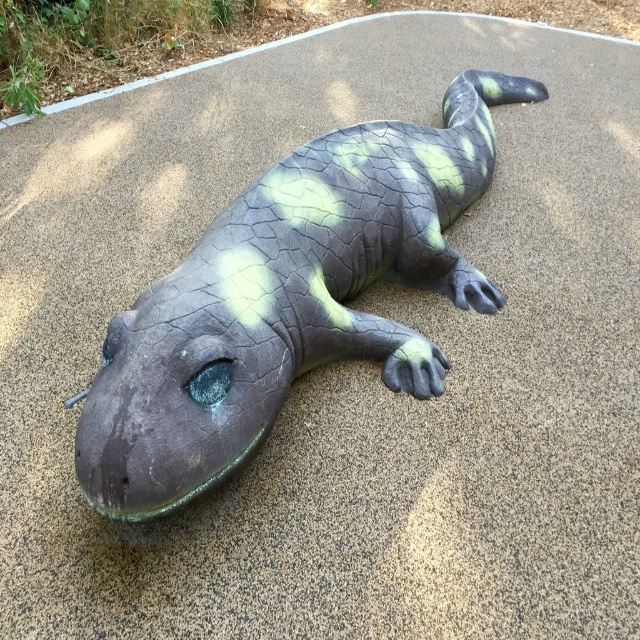Lizard: (80, 95, 549, 517)
